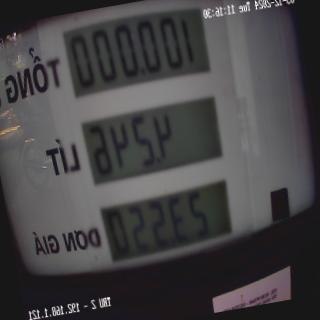screen: (54, 0, 249, 287)
